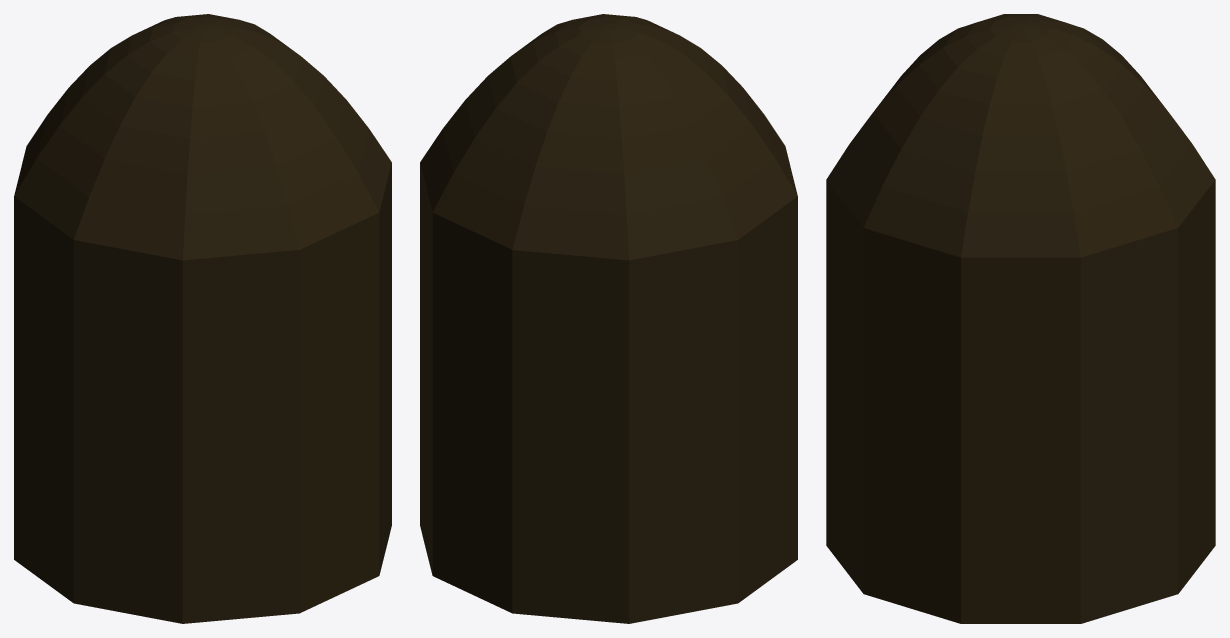
The model's file is bullet.fbx.
3 views of the same model, side by side, from view 1: azimuth 30°, elevation 25°; view 2: azimuth 150°, elevation 25°; view 3: azimuth 270°, elevation 25° (orthographic).
Visible parts, largest first — view 1: Bullet; view 2: Bullet; view 3: Bullet.
Part boxes in pixels (x1,y1,x2,y2): Bullet: (14, 14, 391, 623); Bullet: (420, 14, 797, 623); Bullet: (826, 14, 1215, 623).
Bounding box in the file's own units: 0.5784 × 0.8956 × 0.6082.
